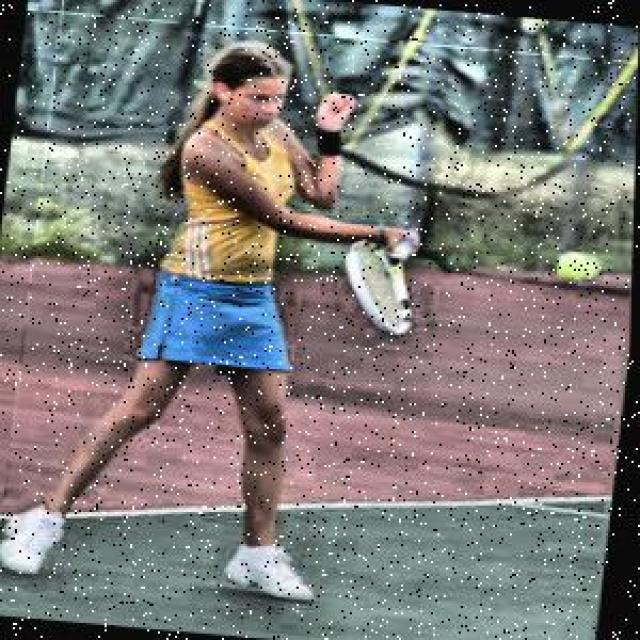tennis-ball: (558, 250, 598, 282)
